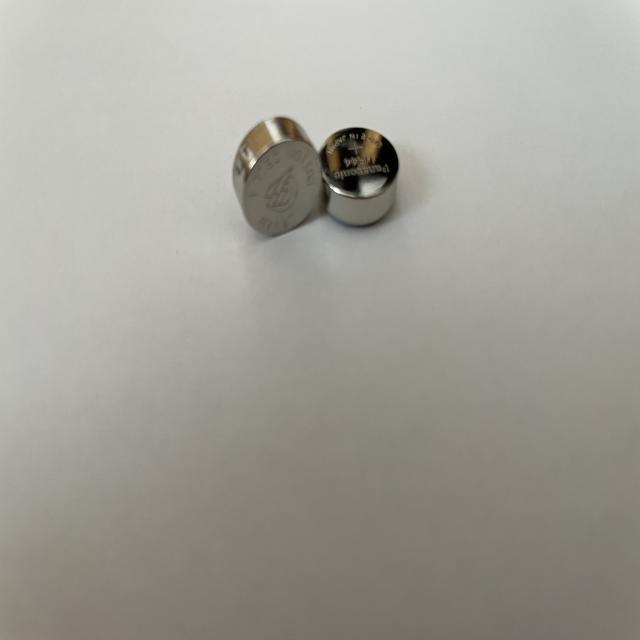COIN: (232, 116, 322, 235), (320, 127, 400, 225)
